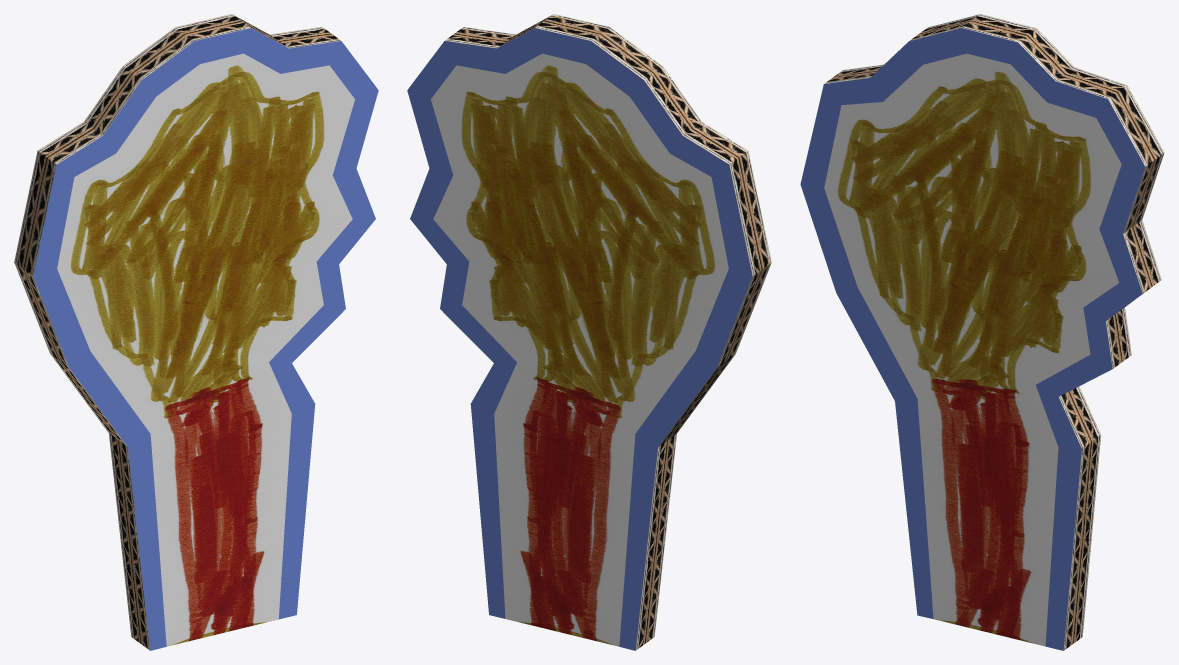
The model's file is puu.fbx.
The picture shows the model from 3 angles, left to right: view 1: azimuth 30°, elevation 25°; view 2: azimuth 150°, elevation 25°; view 3: azimuth 330°, elevation 25°; orthographic projection.
Parts seen in each view (by area): view 1: Puu; view 2: Puu; view 3: Puu.
Boxes of the visible parts, bbox=[...] form: Puu: bbox=[14, 14, 378, 650]; Puu: bbox=[407, 14, 771, 650]; Puu: bbox=[800, 14, 1164, 650].
Size of the model in its own units: 126 by 209 by 12.1.
3 materials, 2 textured.
